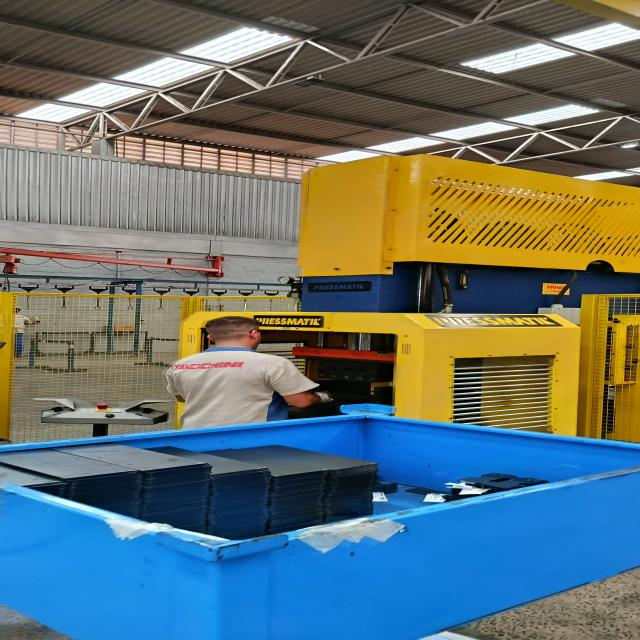oculos-epi: (249, 330, 265, 338)
